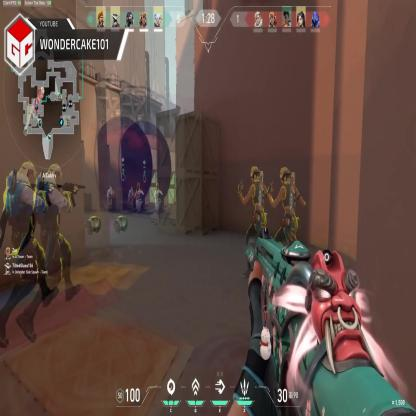enemy: (7, 156, 48, 350), (243, 166, 270, 272), (134, 183, 142, 212), (107, 181, 114, 214), (127, 186, 132, 210)
enemy_head: (20, 162, 34, 187), (249, 166, 259, 185), (108, 186, 112, 192), (137, 183, 140, 189), (130, 186, 132, 190)
